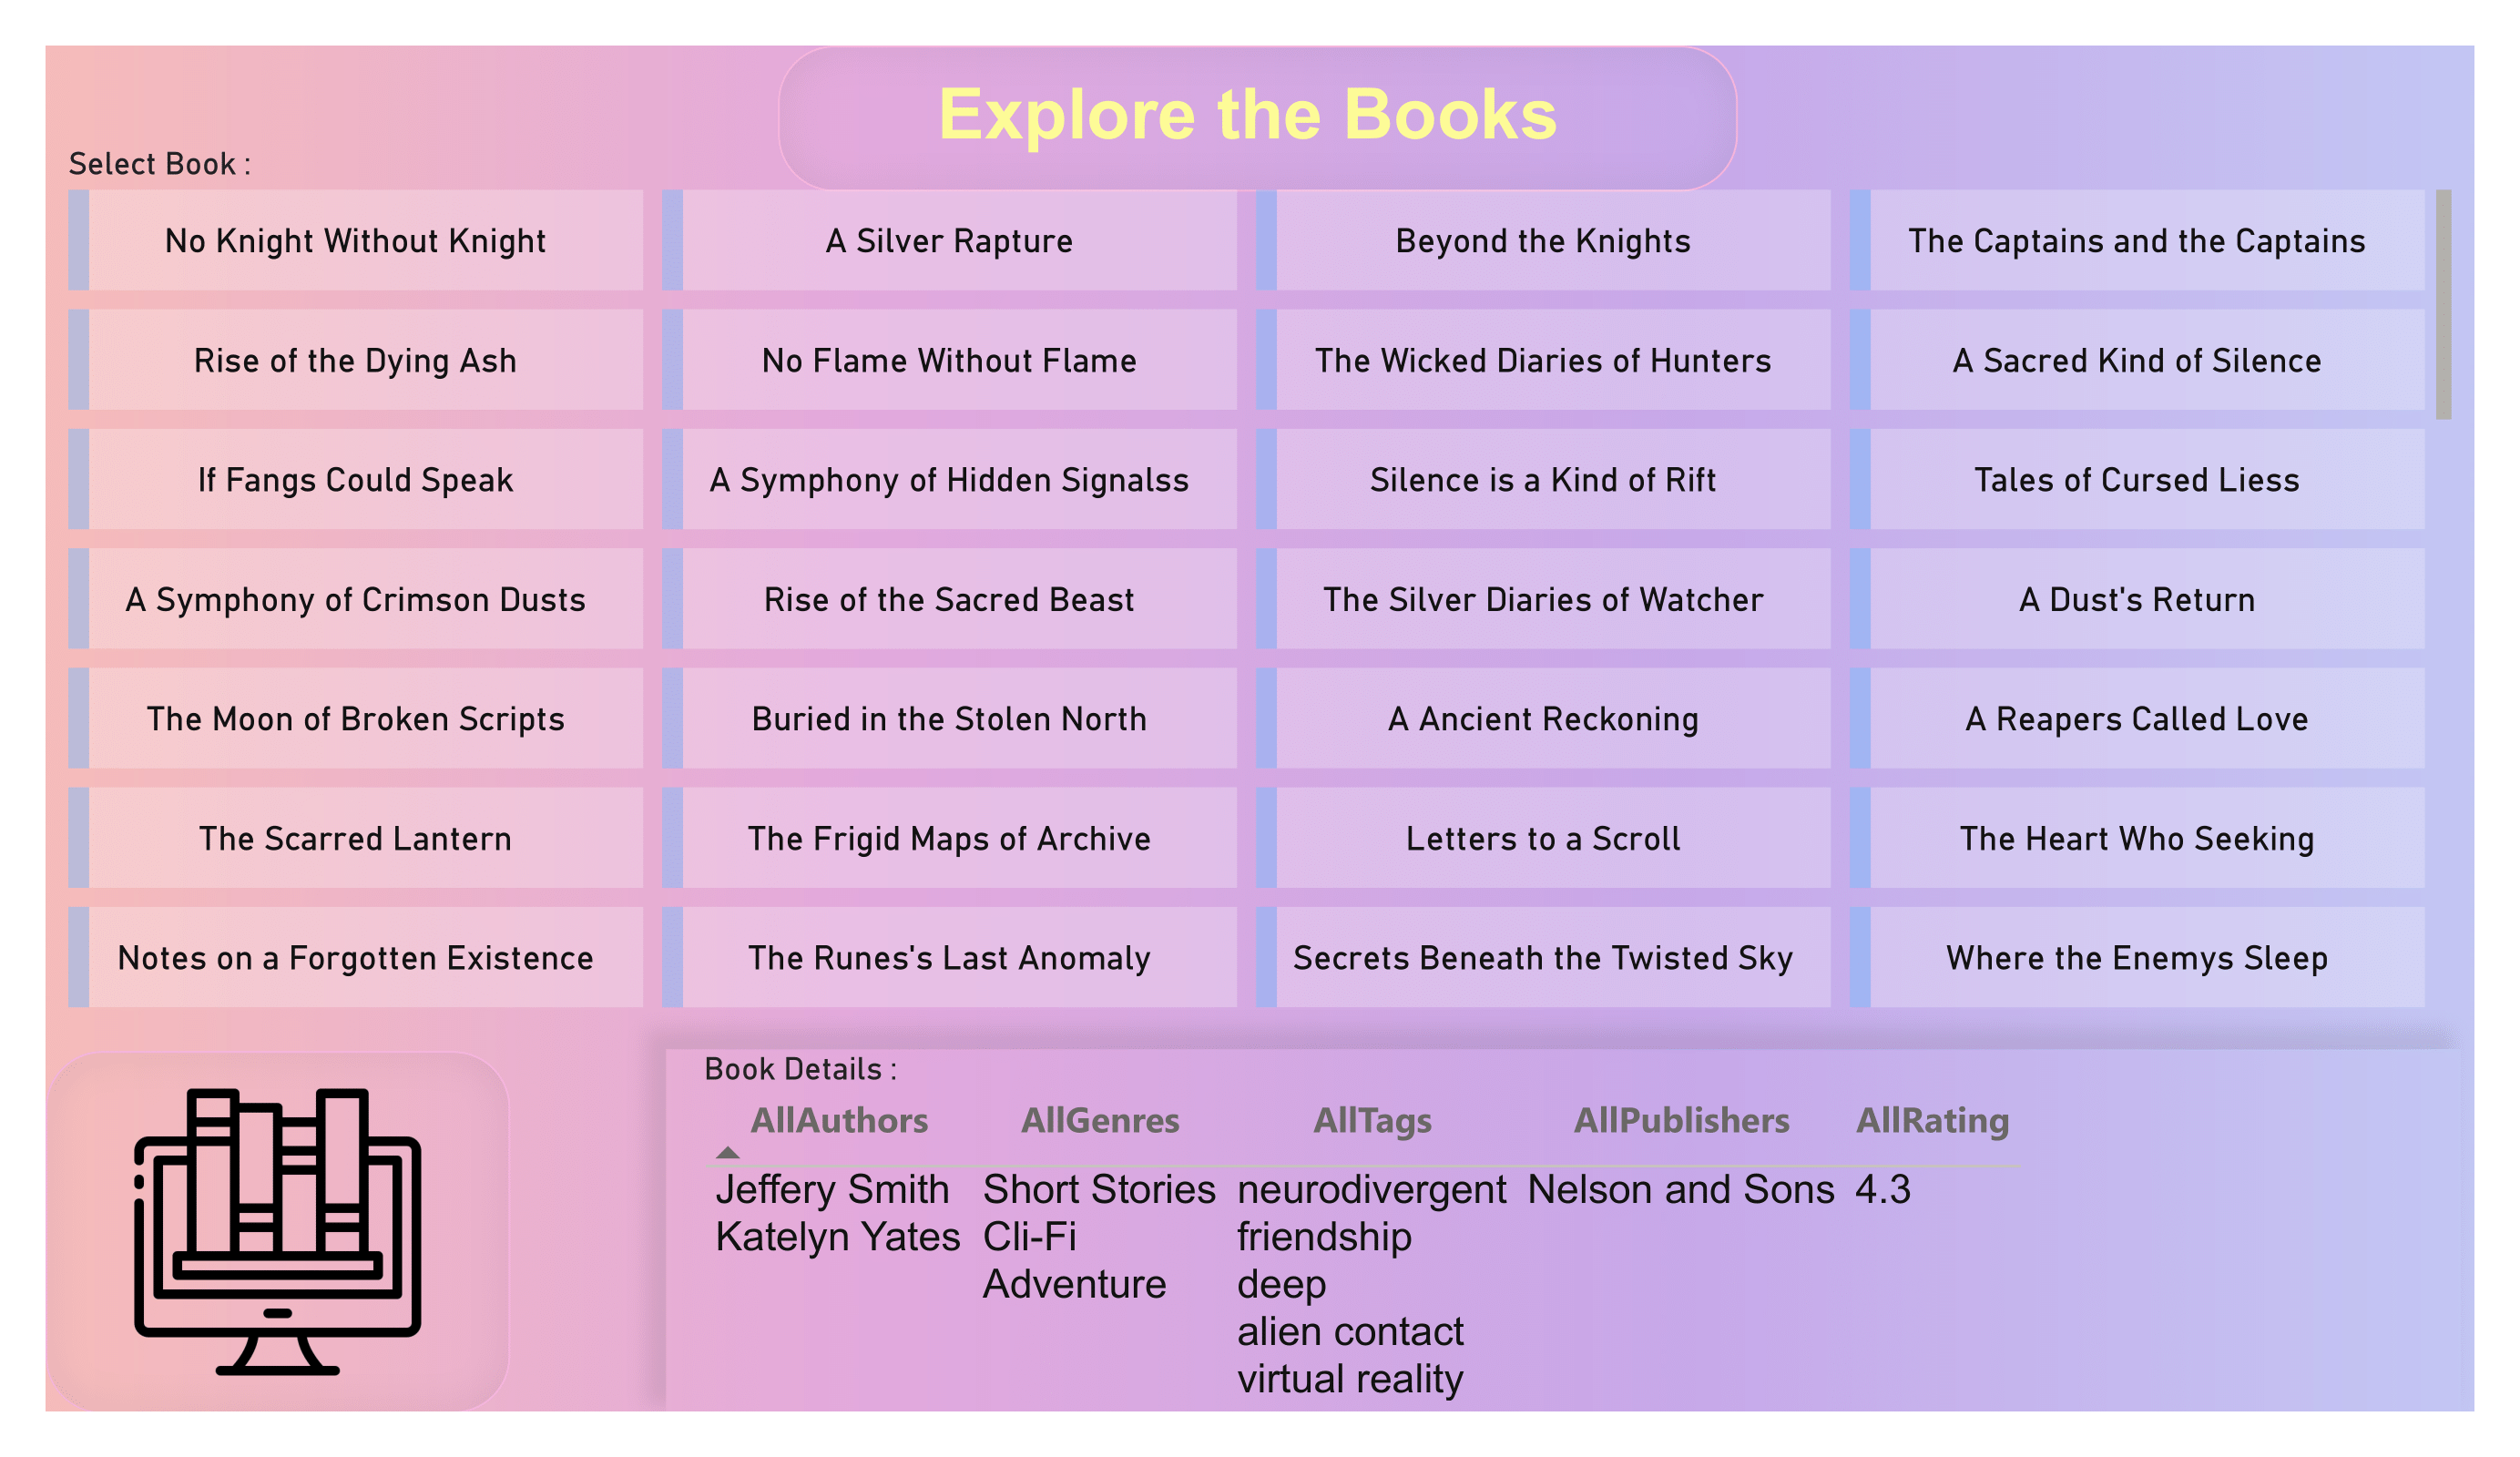

Layout of this report page (visuals, bound fields, positions):
{"tool":"powerbi","page":{"name":"BOOKS","canvas":[1280,720],"ordinal":1},"visuals":[{"type":"textbox","box":[386.1,0,506.4,76.6],"z":0},{"type":"advancedSlicerVisual","title":"Select Book : ","fields":{"Values":["books_final.title"]},"box":[6.9,51.9,1265.6,461.6],"z":1000},{"type":"tableEx","title":"Book Details :","fields":{"Values":["books_final.AllAuthors","books_final.AllGenres","books_final.AllTags","books_final.AllPublishers","books_final.AllRating"]},"box":[326.8,529.1,945.7,191.9],"z":2000},{"type":"image","box":[0,529.9,245.4,190.7],"z":4000}]}

Visuals, with their boxes on the page's 1280x720 design canvas (x1, y1, x2, y2). These are canvas units, not pixel positions in the 2520x1457 screenshot, which may show the page scaled, cropped or inside an application window:
textbox: {"x1": 386, "y1": 0, "x2": 892, "y2": 77}
"Select Book : " advancedSlicerVisual: {"x1": 7, "y1": 52, "x2": 1272, "y2": 514}
"Book Details :" tableEx: {"x1": 327, "y1": 529, "x2": 1272, "y2": 721}
image: {"x1": 0, "y1": 530, "x2": 245, "y2": 721}
